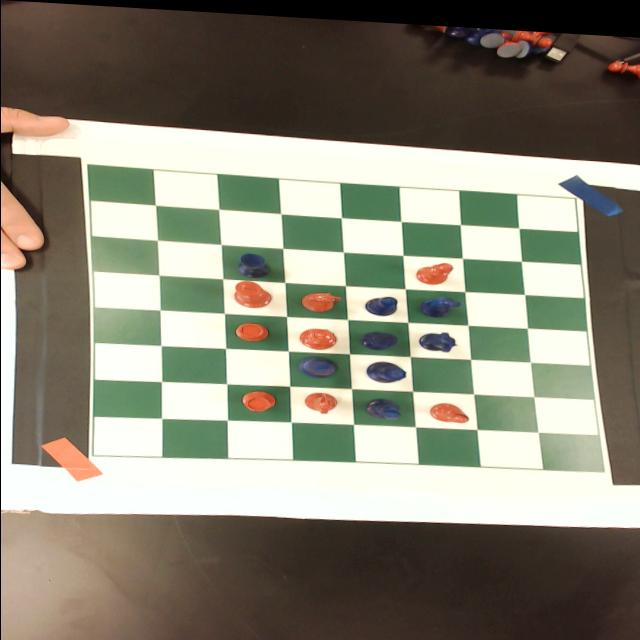B: (360, 392, 402, 416), (364, 290, 399, 312)
K: (296, 351, 338, 375)
N: (418, 288, 463, 315), (418, 323, 458, 348)
Q: (362, 356, 408, 380)
R: (232, 248, 274, 276), (358, 326, 398, 348)
b: (415, 255, 455, 281), (428, 396, 469, 418)
k: (232, 276, 274, 306)
n: (297, 287, 343, 309), (302, 387, 337, 412)
q: (298, 323, 338, 348)
r: (237, 387, 276, 410), (230, 318, 270, 340)
